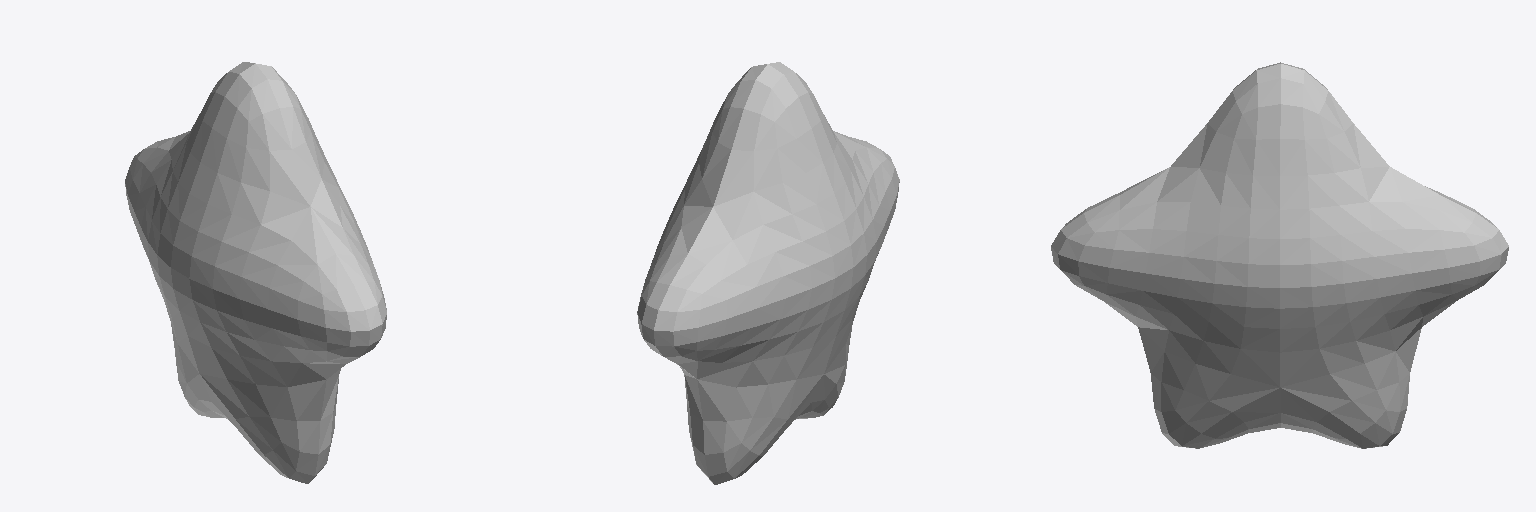
File: cute_star_368.obj
The picture shows the model from 3 angles: view 1: azimuth 30°, elevation 25°; view 2: azimuth 150°, elevation 25°; view 3: azimuth 270°, elevation 25°; orthographic projection.
Parts seen in each view (by area): view 1: cute_star_368; view 2: cute_star_368; view 3: cute_star_368.
Part boxes in pixels (left/top/right/bottom): cute_star_368: left=125, top=62, right=386, bottom=483; cute_star_368: left=637, top=62, right=899, bottom=484; cute_star_368: left=1051, top=62, right=1508, bottom=448.
Size of the model in its own units: 1.12 by 2.4 by 2.59.